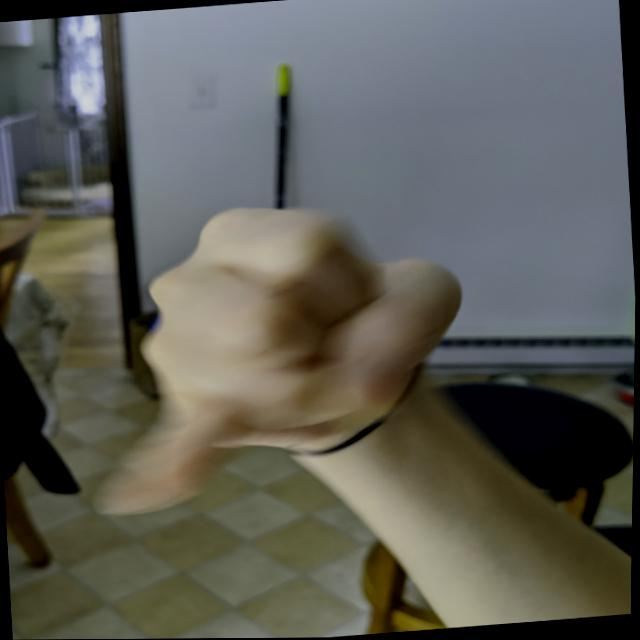J: (59, 176, 493, 535)
